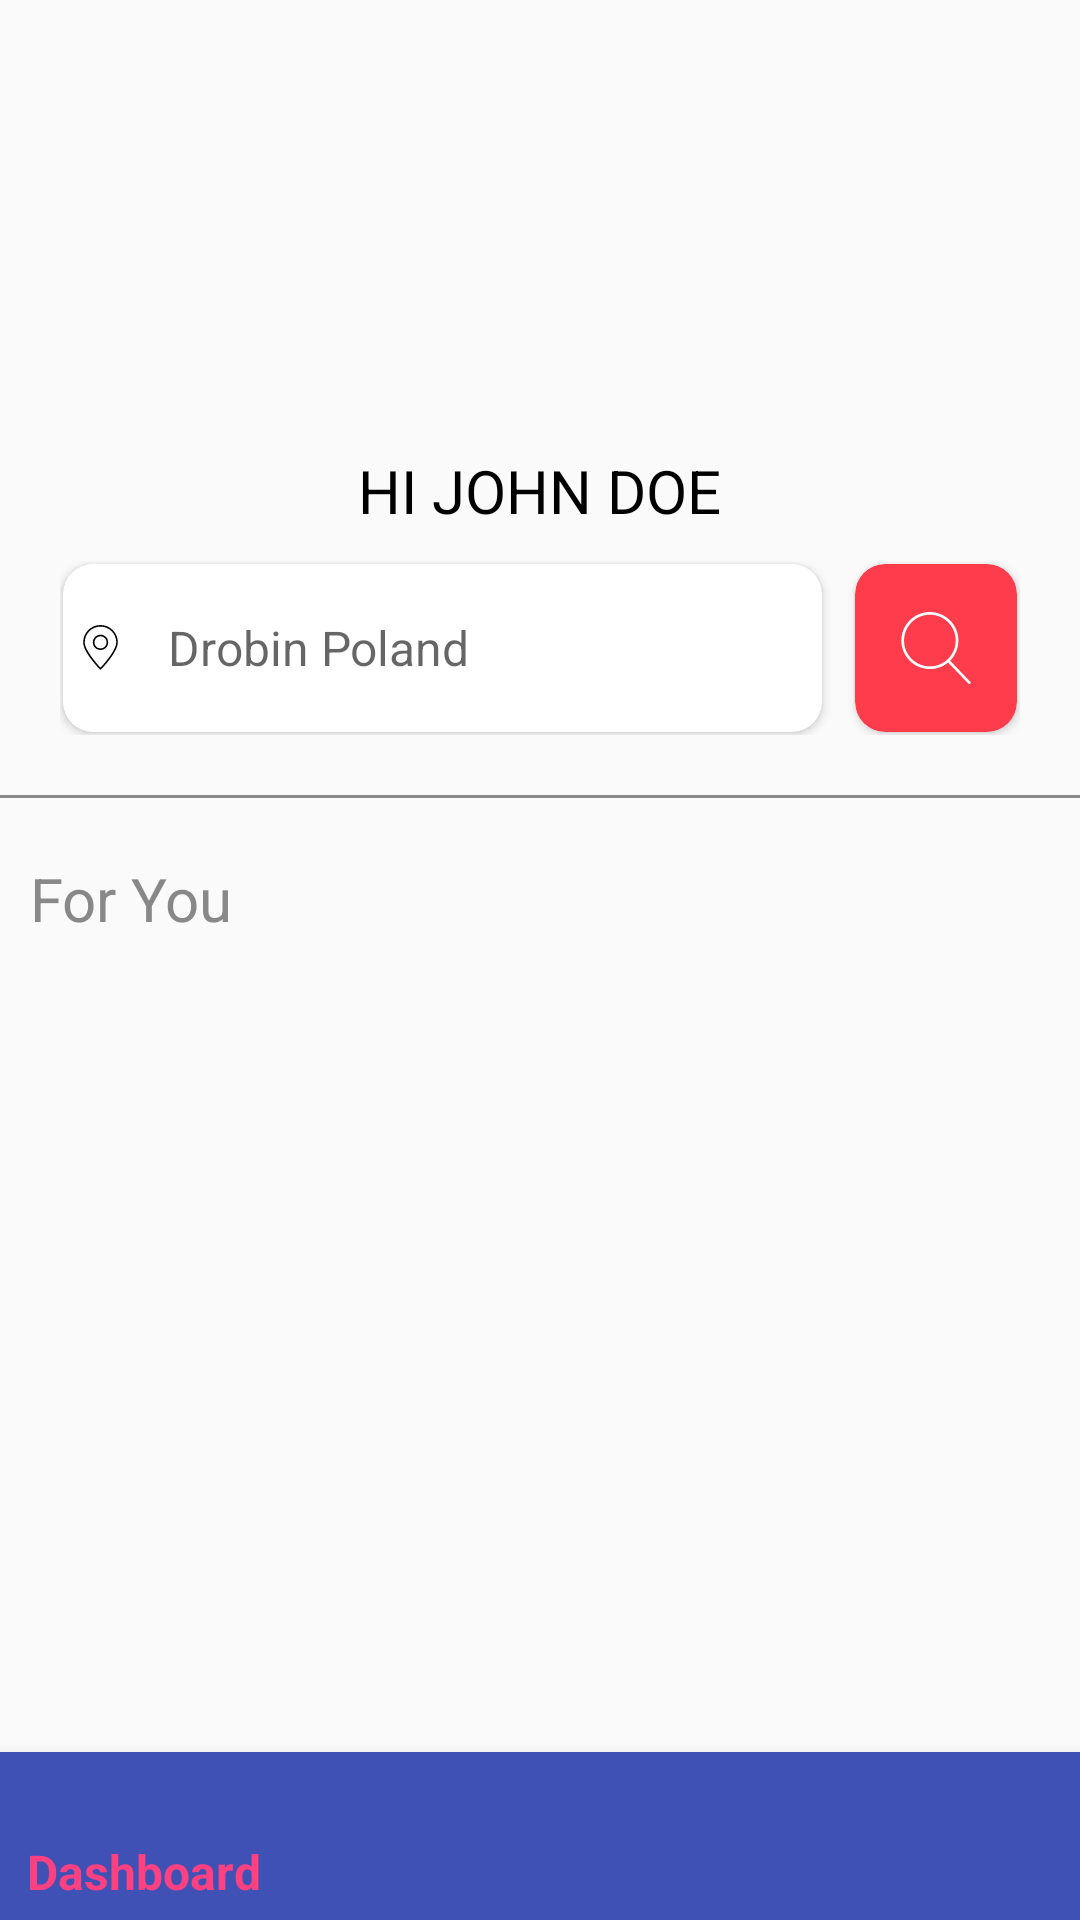

Named icons in this screenshot (1080w x 1920h) and their centers, [x,y]:
blank map pointer dashbord: [100,647]
search dashboard: [936,648]
